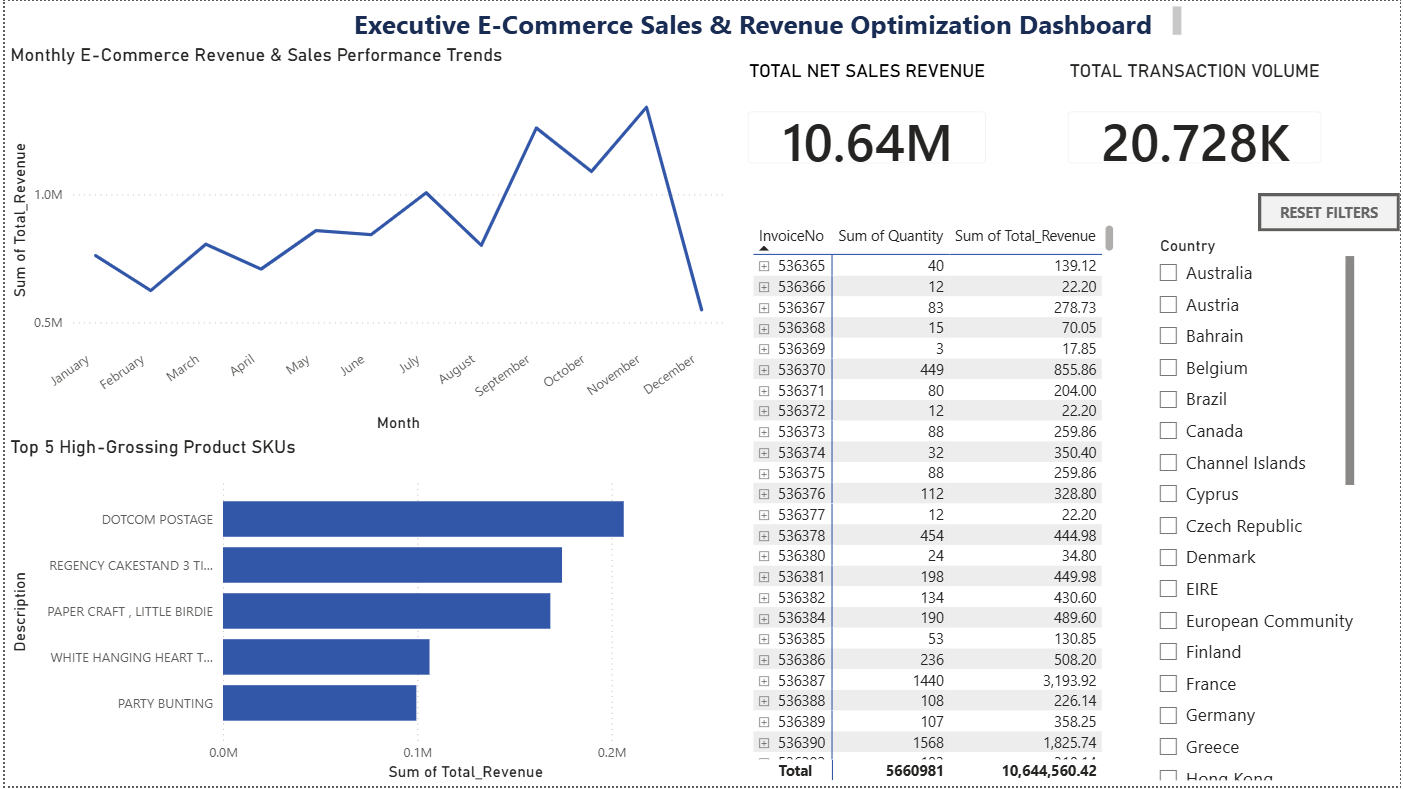

The dashboard page shown, as its layout file describes it:
{"tool":"powerbi","page":{"name":"Sales Dashboard","canvas":[1280,720],"ordinal":0},"visuals":[{"type":"cardVisual","title":"TOTAL NET SALES REVENUE","fields":{"Data":["Sum(ecommerce_sales.Total_Revenue)"]},"box":[664.6,54.5,253.5,112.1],"z":0},{"type":"lineChart","title":"Monthly E-Commerce Revenue & Sales Performance Trends","fields":{"Category":["ecommerce_sales.InvoiceDate.Variation.Date Hierarchy.Year","ecommerce_sales.InvoiceDate.Variation.Date Hierarchy.Quarter","ecommerce_sales.InvoiceDate.Variation.Date Hierarchy.Month","ecommerce_sales.InvoiceDate.Variation.Date Hierarchy.Day"],"Y":["Sum(ecommerce_sales.Total_Revenue)"]},"box":[0,39.4,664.3,359.9],"z":1000},{"type":"slicer","fields":{"Values":["ecommerce_sales.Country"]},"box":[1046.5,211.1,196,509.1],"z":2000},{"type":"clusteredBarChart","title":"Top 5 High-Grossing Product SKUs","fields":{"Category":["ecommerce_sales.Description"],"Y":["Sum(ecommerce_sales.Total_Revenue)"]},"box":[0,399,664.6,321.2],"z":3000},{"type":"pivotTable","fields":{"Rows":["ecommerce_sales.InvoiceNo","ecommerce_sales.Description"],"Values":["Sum(ecommerce_sales.Quantity)","Sum(ecommerce_sales.Total_Revenue)"]},"box":[681.8,200,341.4,520.2],"z":4000},{"type":"textbox","box":[297,0,786.9,39.4],"z":5000},{"type":"cardVisual","title":"TOTAL TRANSACTION VOLUME","fields":{"Data":["Count(ecommerce_sales.InvoiceNo)"]},"box":[957.6,54.5,267.7,112.1],"z":6000},{"type":"actionButton","box":[1149.5,175.8,130.3,35.4],"z":7000}]}

Visuals, with their boxes in screenshot pixels (x1, y1, x2, y2), scaled from the page's 1280x720 canvas onto the 1403x789 screenshot:
"TOTAL NET SALES REVENUE" cardVisual: {"x1": 728, "y1": 60, "x2": 1006, "y2": 183}
"Monthly E-Commerce Revenue & Sales Performance Trends" lineChart: {"x1": 0, "y1": 43, "x2": 728, "y2": 438}
slicer - ecommerce_sales.Country: {"x1": 1147, "y1": 231, "x2": 1362, "y2": 788}
"Top 5 High-Grossing Product SKUs" clusteredBarChart: {"x1": 0, "y1": 437, "x2": 728, "y2": 788}
pivotTable - ecommerce_sales.InvoiceNo x ecommerce_sales.Description: {"x1": 747, "y1": 219, "x2": 1122, "y2": 788}
textbox: {"x1": 326, "y1": 0, "x2": 1188, "y2": 43}
"TOTAL TRANSACTION VOLUME" cardVisual: {"x1": 1050, "y1": 60, "x2": 1343, "y2": 183}
actionButton: {"x1": 1260, "y1": 193, "x2": 1402, "y2": 231}
